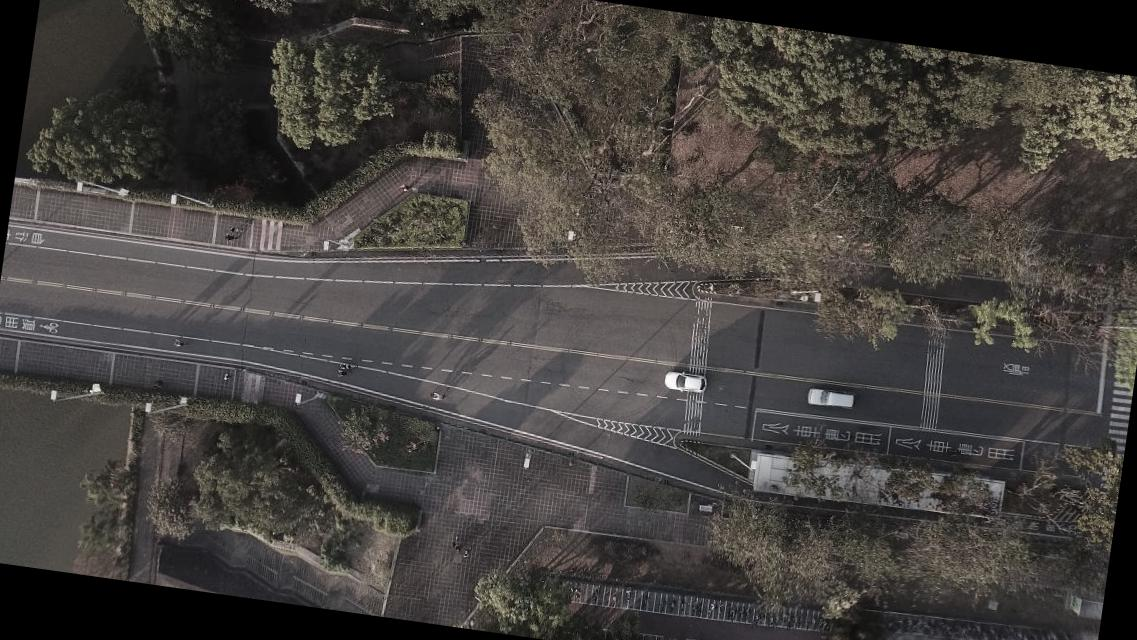vehicle: (662, 367, 707, 396), (805, 385, 854, 411)
